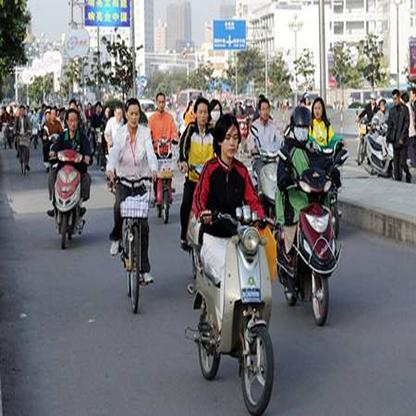target: (183, 112, 282, 413), (270, 104, 344, 329), (45, 108, 94, 251), (146, 93, 180, 224)
